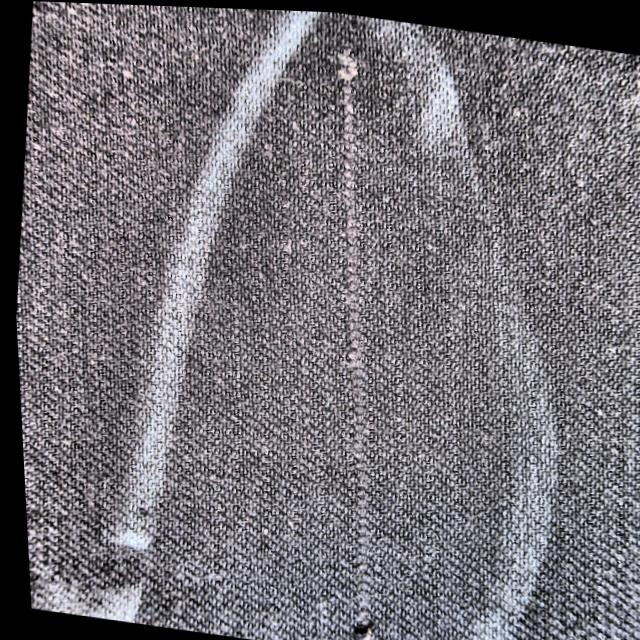Hole: (328, 47, 364, 640)
